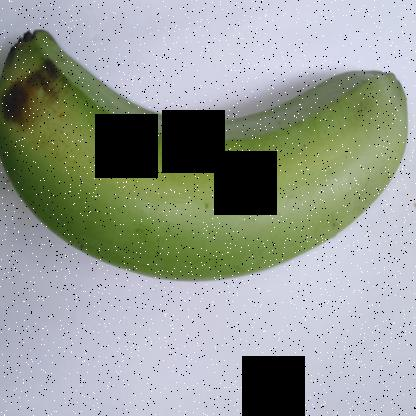freshunripe: (0, 20, 413, 297)
